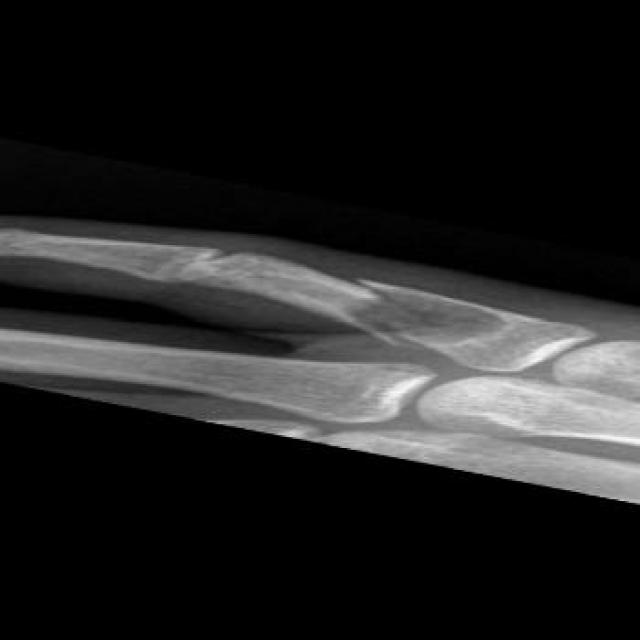Fracture: (331, 271, 453, 351)
